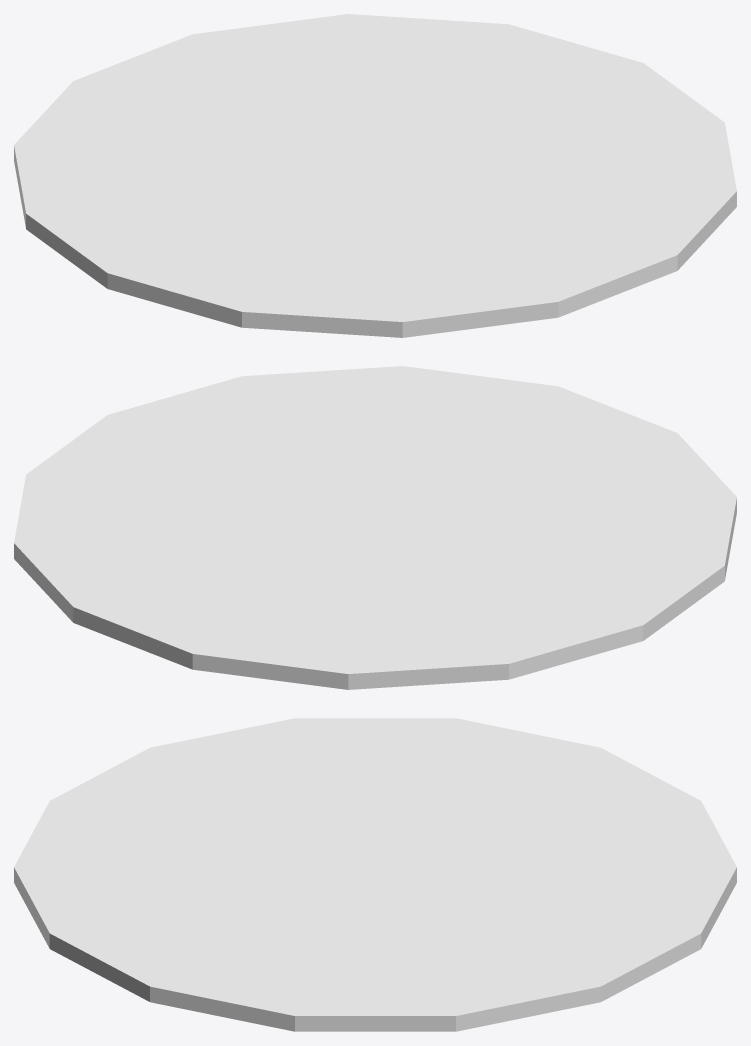
The model's file is Cashier Ui Place Holder.fbx.
3 renders of one model, top to bottom at view 1: azimuth 30°, elevation 25°; view 2: azimuth 150°, elevation 25°; view 3: azimuth 270°, elevation 25°, orthographic.
Parts seen in each view (by area): view 1: Cashier_Ui_PlaceHolder; view 2: Cashier_Ui_PlaceHolder; view 3: Cashier_Ui_PlaceHolder.
Part boxes in pixels (x1,y1,x2,y2): Cashier_Ui_PlaceHolder: (14, 14, 736, 337); Cashier_Ui_PlaceHolder: (14, 366, 736, 689); Cashier_Ui_PlaceHolder: (14, 718, 736, 1031).
Bounding box in the file's own units: 1.28 × 0.0313 × 1.31.
